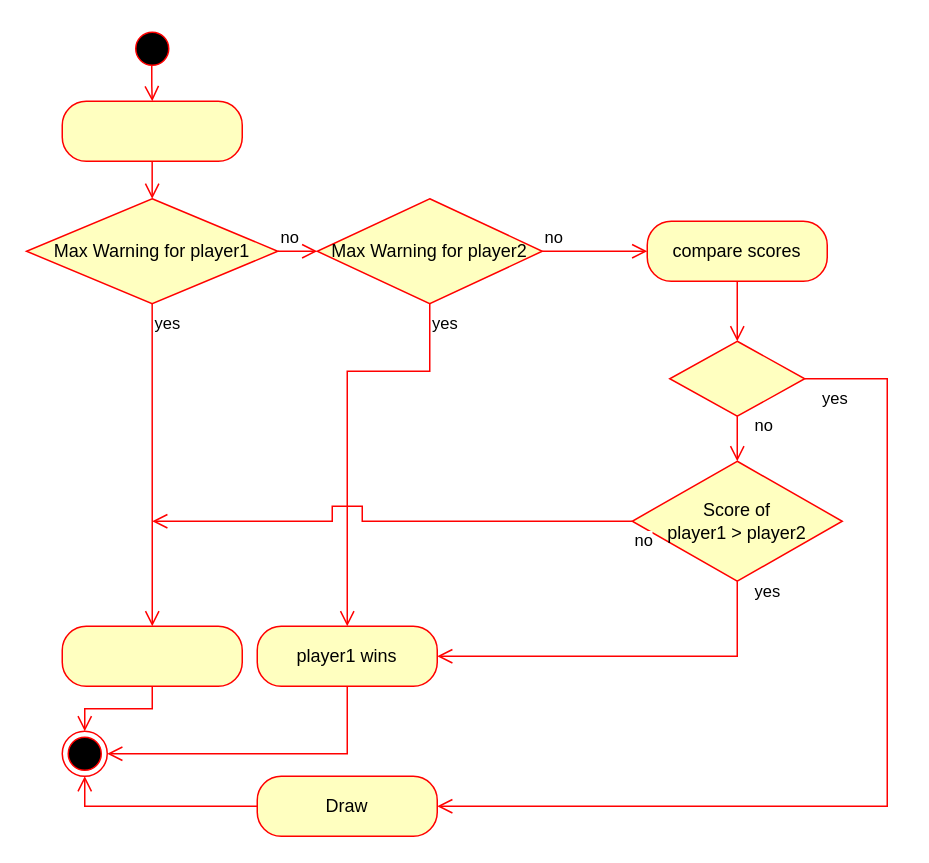
Image size: 929x863. Some labels were removed from this diagram. Here are the shapes that lost their labels. From the top down, the centre of each, then its label:
At point (151, 130): "gameOver()".
At point (736, 378): "equal scores".
At point (151, 655): "player2 wins".
